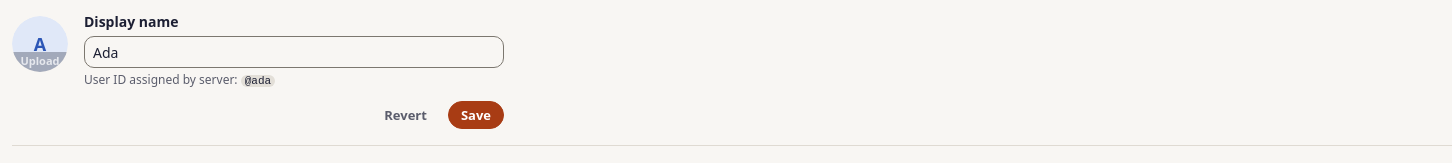
Test: ProfileEditor, in another › offers Save and Revert only while the name or bio changed, says Saved, and keeps the ID alone in its code
Expected: the text "ada" is shown, 241,75 -> 275,87
Click the button "Revert" at (406, 115), box 371,101 -> 440,129
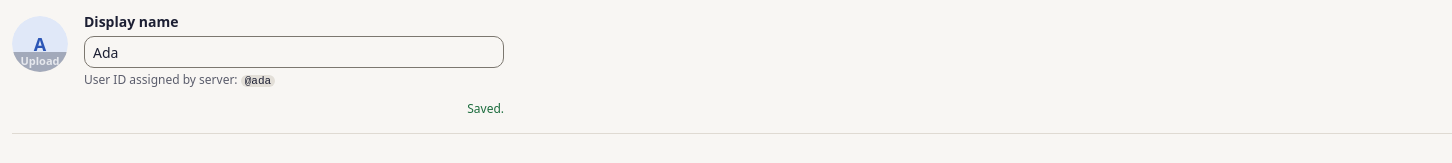
Expected: the message "Saved." is shown, 467,100 -> 504,117
